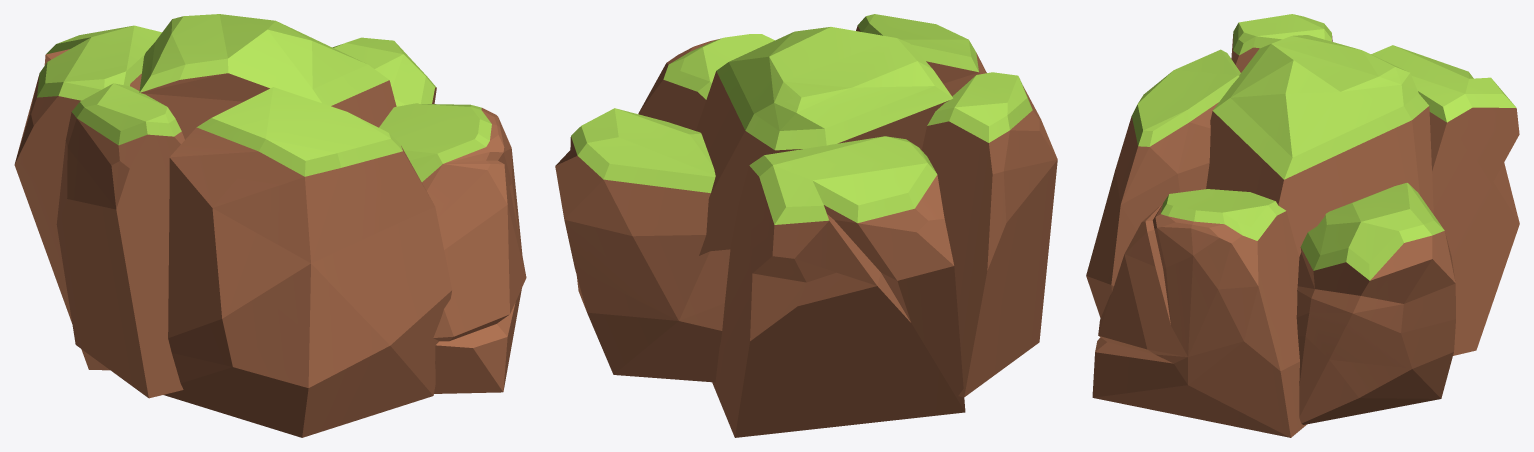
File: Brown_Rock.obj
The picture shows the model from 3 angles, left to right: view 1: azimuth 30°, elevation 25°; view 2: azimuth 150°, elevation 25°; view 3: azimuth 270°, elevation 25°; orthographic projection. The views are drawn at different scales.
Parts seen in each view (by area): view 1: PP_Rock_Pile_Forest_Moss_10; view 2: PP_Rock_Pile_Forest_Moss_10; view 3: PP_Rock_Pile_Forest_Moss_10.
Part boxes in pixels (bbox=[...]): PP_Rock_Pile_Forest_Moss_10: bbox=[14, 14, 526, 437]; PP_Rock_Pile_Forest_Moss_10: bbox=[555, 14, 1057, 437]; PP_Rock_Pile_Forest_Moss_10: bbox=[1086, 14, 1519, 437].
Bounding box in the file's own units: 5.06 × 3.89 × 5.2.
1 material, 1 textured.
